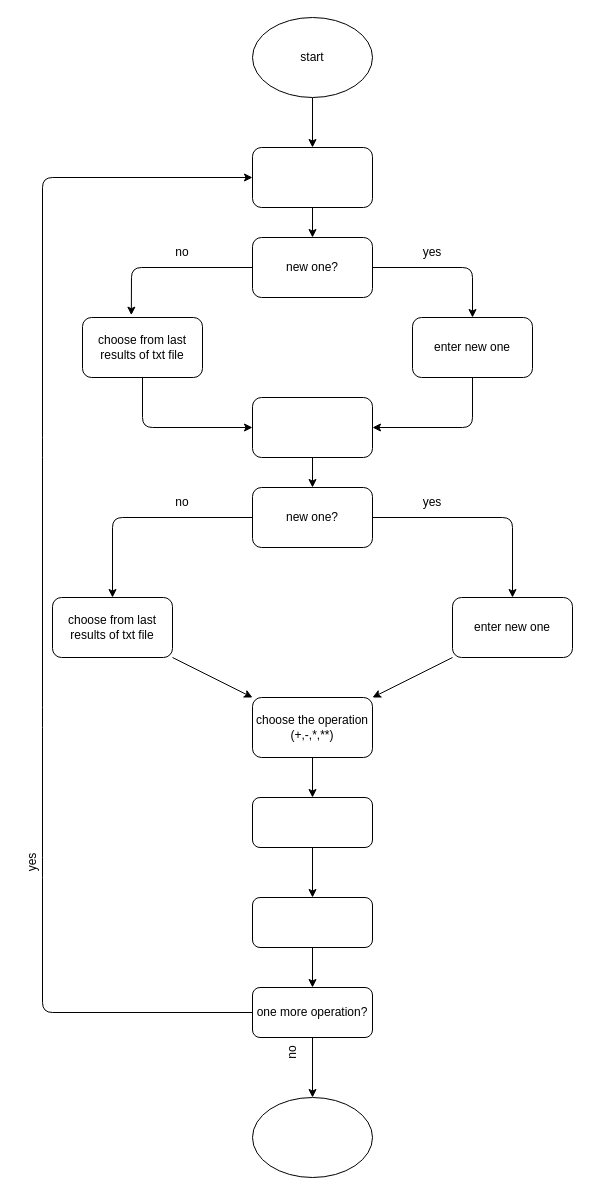
Image size: 590x1195. Some labels were removed from this diagram. The box of each missing label's shape, as (x1, y1, x2, y2) in pixels:
complete the selected task: (252, 796, 372, 848)
end: (252, 1096, 372, 1178)
enter the first number: (252, 146, 372, 208)
enter the second one: (252, 396, 372, 458)
record the result to the txt file: (252, 896, 372, 948)
